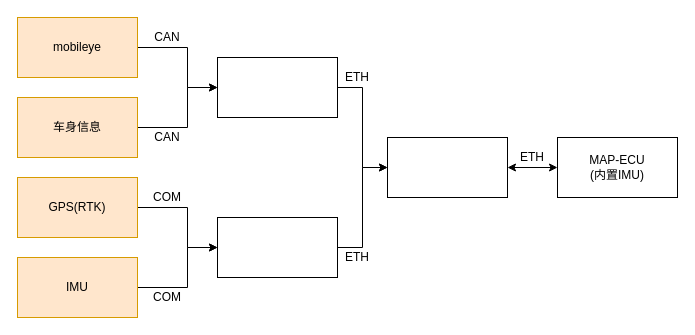
The diagram is 695 pixels wide and 335 high, and some of its shapes have lost their labels. The centre of each missing label's shape, as x and y in pixels:
路由器: (447,167)
转接板1 CAN->ETH: (277,87)
转接板2 COM->ETH: (277,247)
